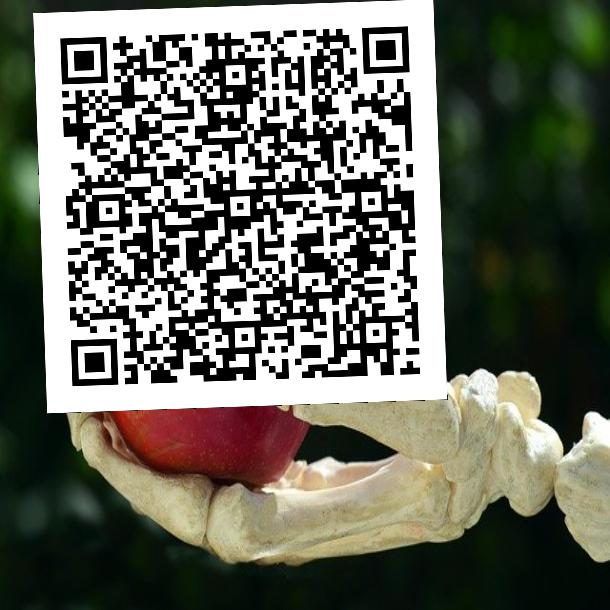qr_code: (33, 0, 447, 414)
